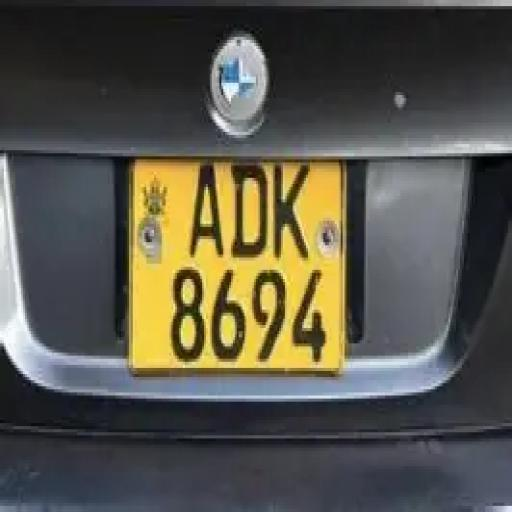number-plates: (136, 159, 336, 367)
